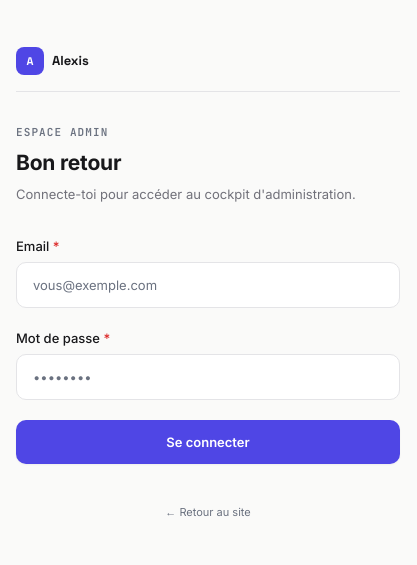
Test: AdminLoginPage › shows an error message on invalid credentials
Step 1. Type "root@alexis.dev" into the field labelled "Email *" → (208, 284), box [16,262,400,308]
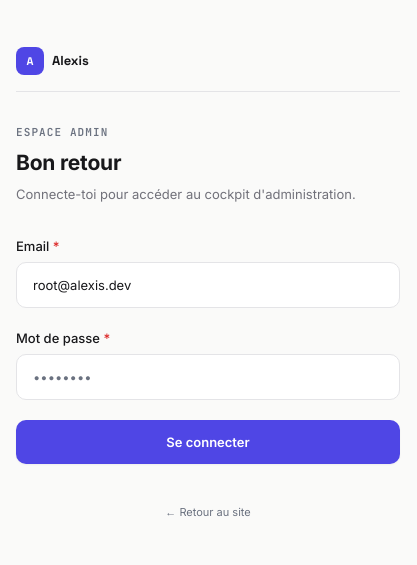
Step 2. Type "wrong" into the password field labelled "Mot de passe *" → (208, 376), box [16,354,400,400]
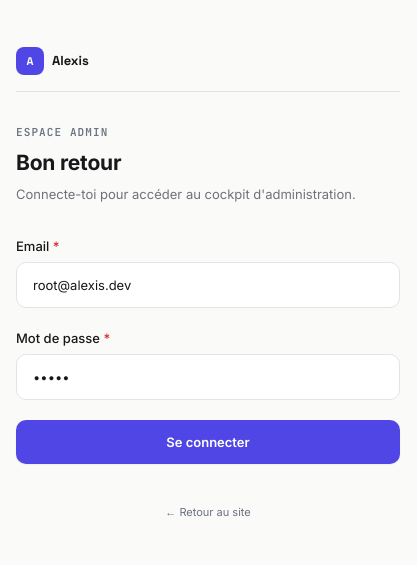
Step 3. Click the button "Se connecter" → (208, 442), box [16,420,400,464]
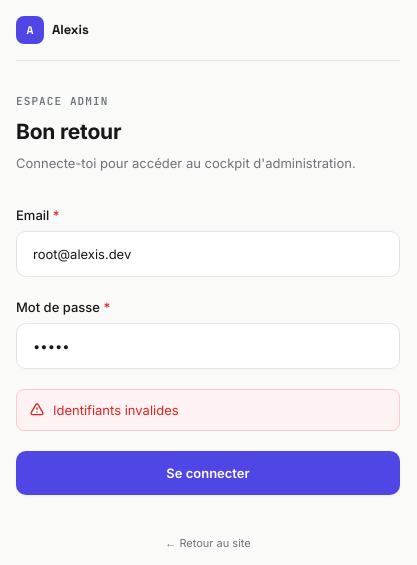
Expected: the text "Identifiants invalides" is shown, [16,388,400,430]
